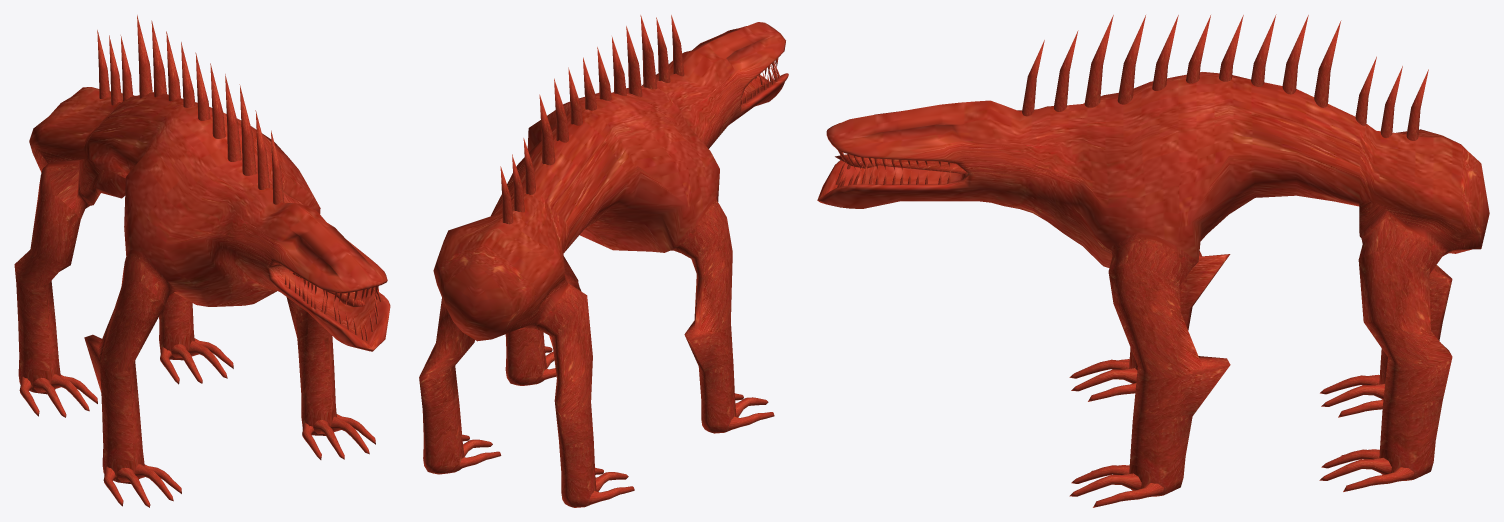
File: SCP-939-53.FBX
The picture shows the model from 3 angles, left to right: view 1: azimuth 30°, elevation 25°; view 2: azimuth 150°, elevation 25°; view 3: azimuth 270°, elevation 25°; orthographic projection. The views are drawn at different scales.
Parts seen in each view (by area): view 1: SCP-939-53; view 2: SCP-939-53; view 3: SCP-939-53.
Part boxes in pixels (box(x1,y1,x2,y2)): SCP-939-53: box(14, 15, 390, 507); SCP-939-53: box(419, 15, 788, 507); SCP-939-53: box(817, 14, 1489, 507).
Bounding box in the file's own units: 104 × 150 × 214.
Materials: 1 (1 with a texture image).
